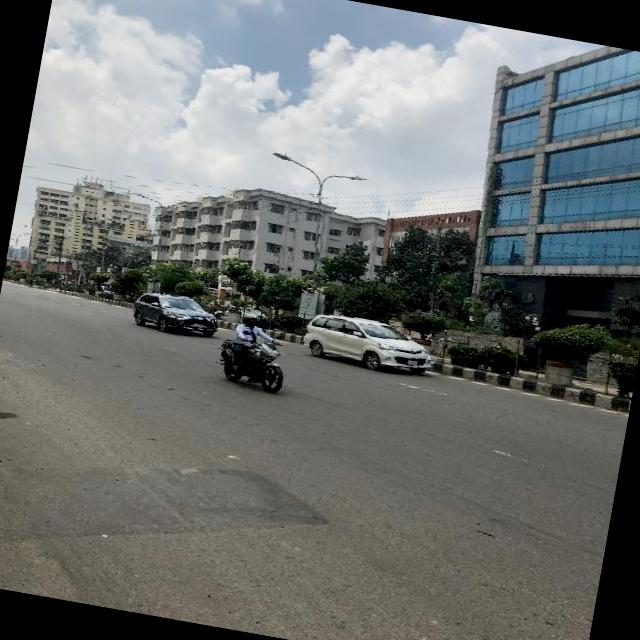car: (298, 307, 439, 380), (130, 286, 223, 342)
motorcycle: (213, 308, 297, 394)
